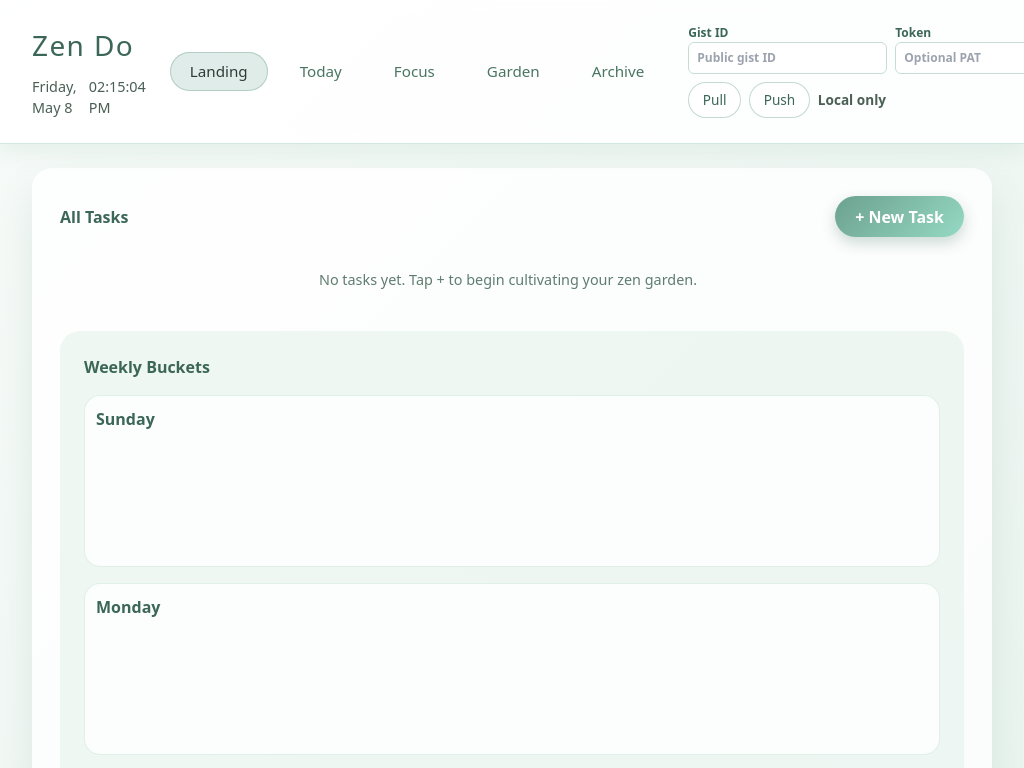
ZenDoApp garden navigation › exposes the Garden tab and toggles the view when clicked
Expected: the heading "All Tasks" is shown, x1=60 y1=205 x2=128 y2=229
Click the button "Garden" at (513, 71), box x1=467 y1=52 x2=560 y2=91
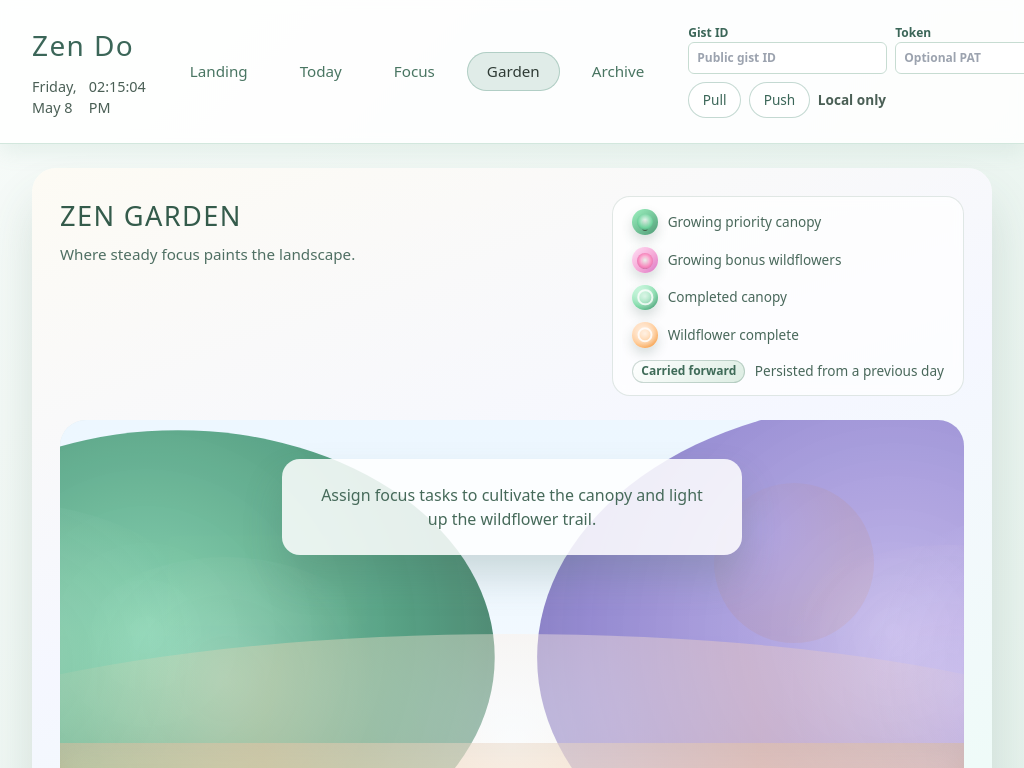
Now the text "Assign focus tasks to cultivate the canopy and light up the wildflower trail." is shown, box x1=310 y1=482 x2=714 y2=530
Click the button "Landing" at (219, 71), box x1=170 y1=52 x2=268 y2=91
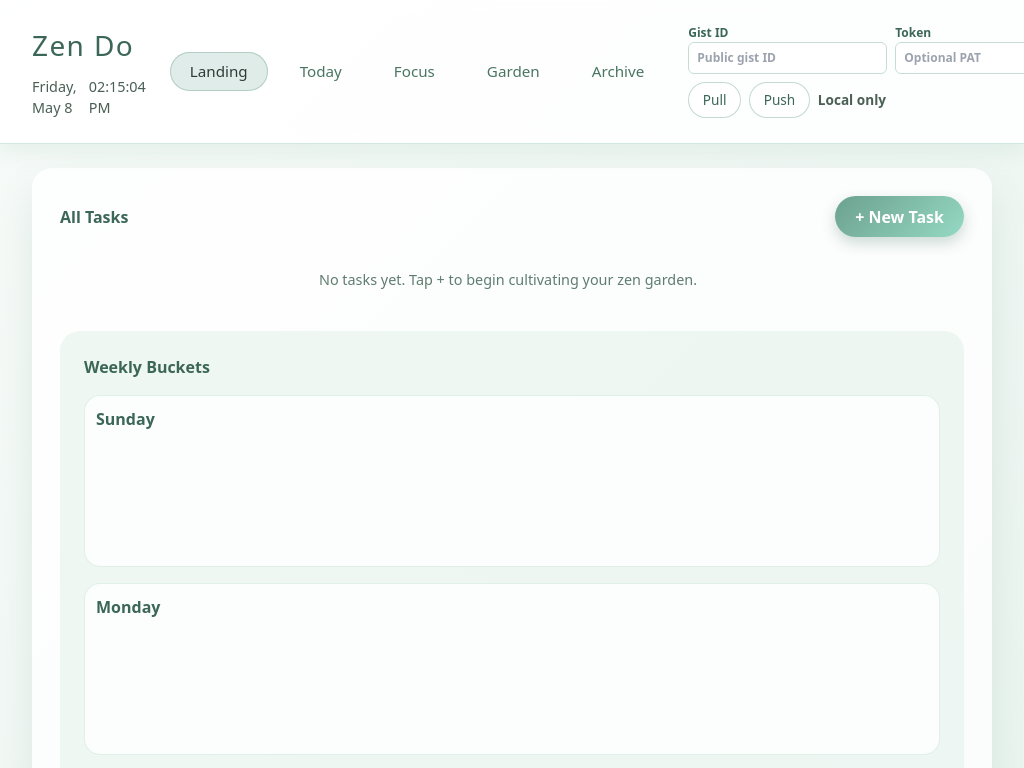
Now the heading "All Tasks" is shown, box x1=60 y1=205 x2=128 y2=229
